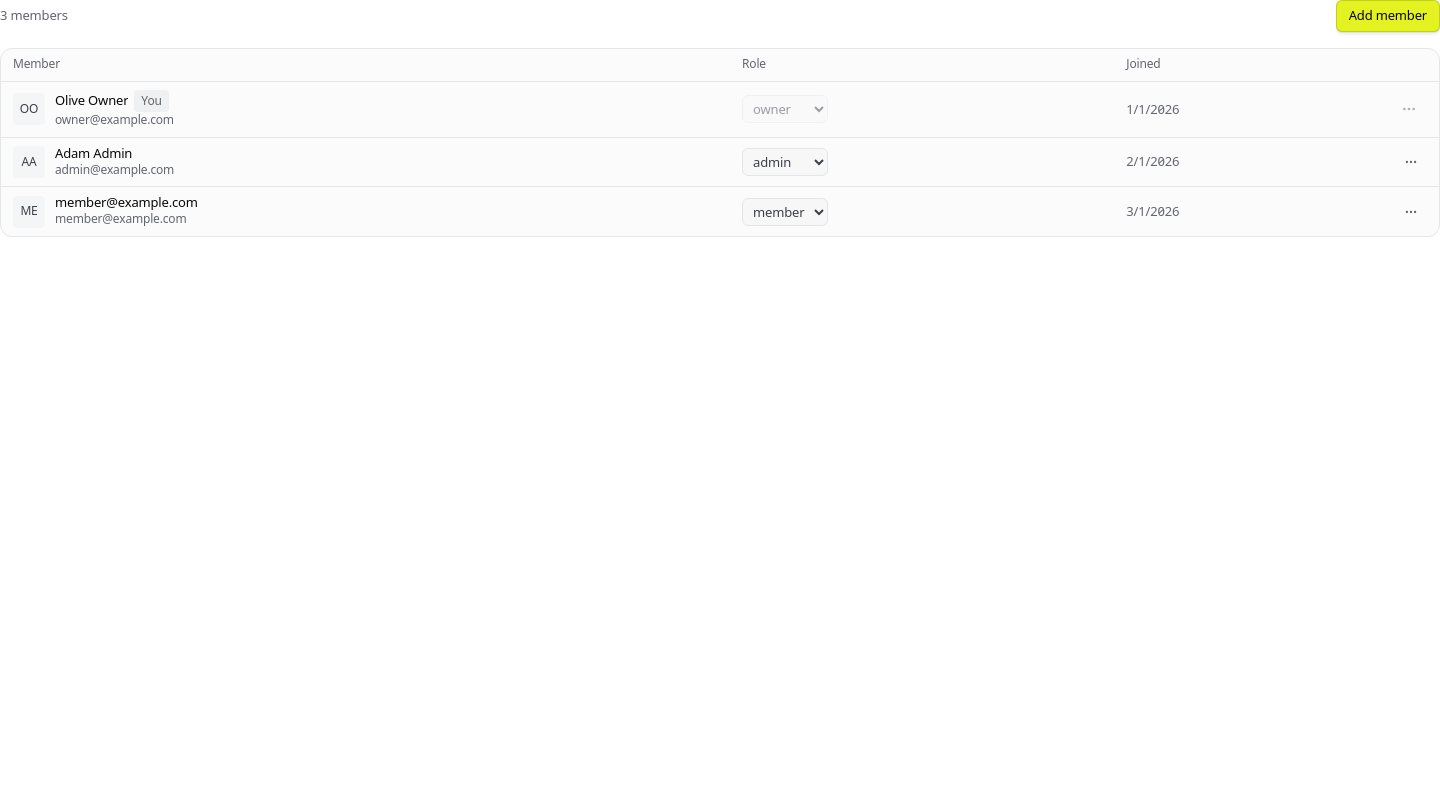
it: MembersPanel › reports a duplicate member as a conflict, not a failure
Expected: the text "owner@example.com" is shown, [55,112,174,129]
Click the button "Add member": (1388, 16) [1336,0,1439,32]
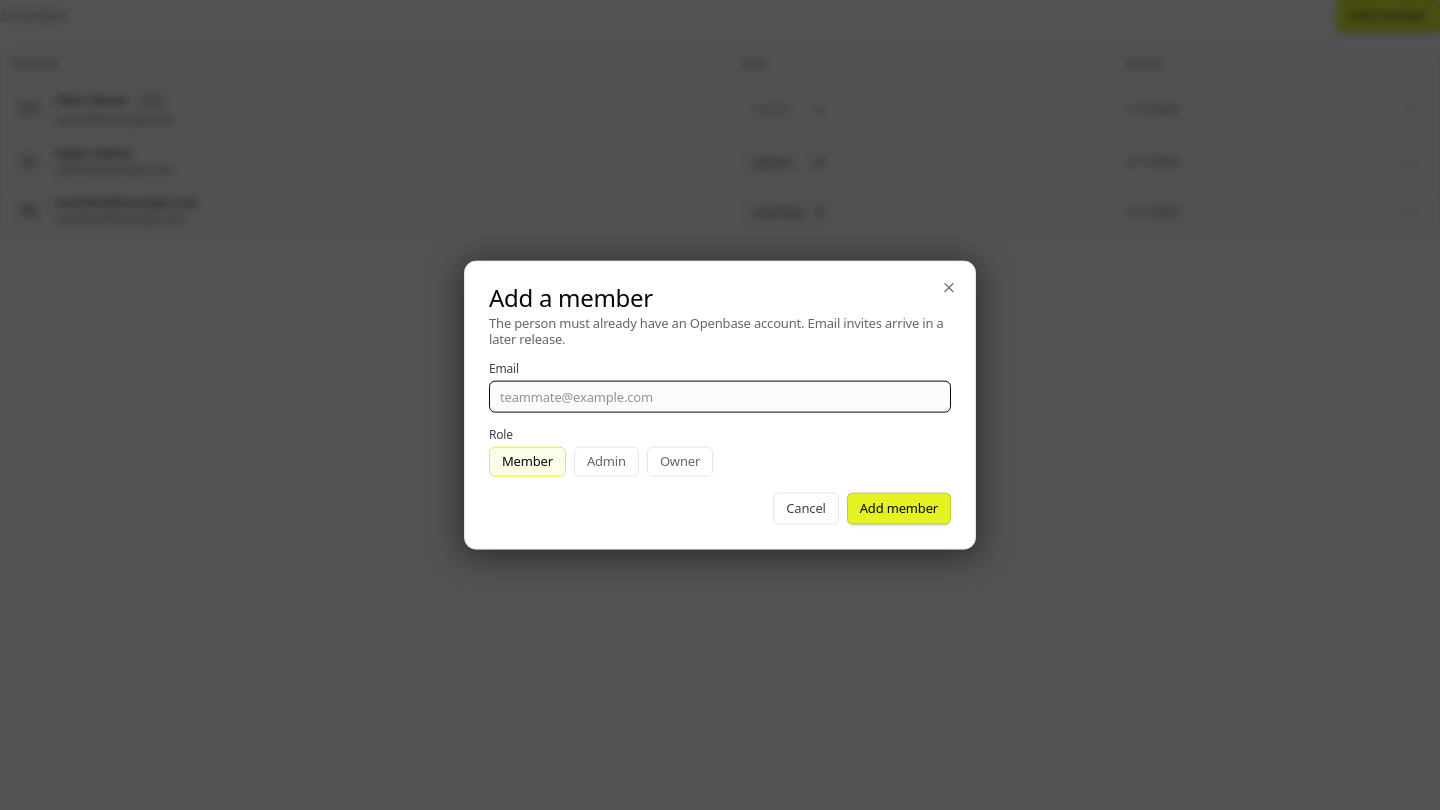
In the field labelled "Email": (720, 397) [489,381,951,413], type "admin@example.com"
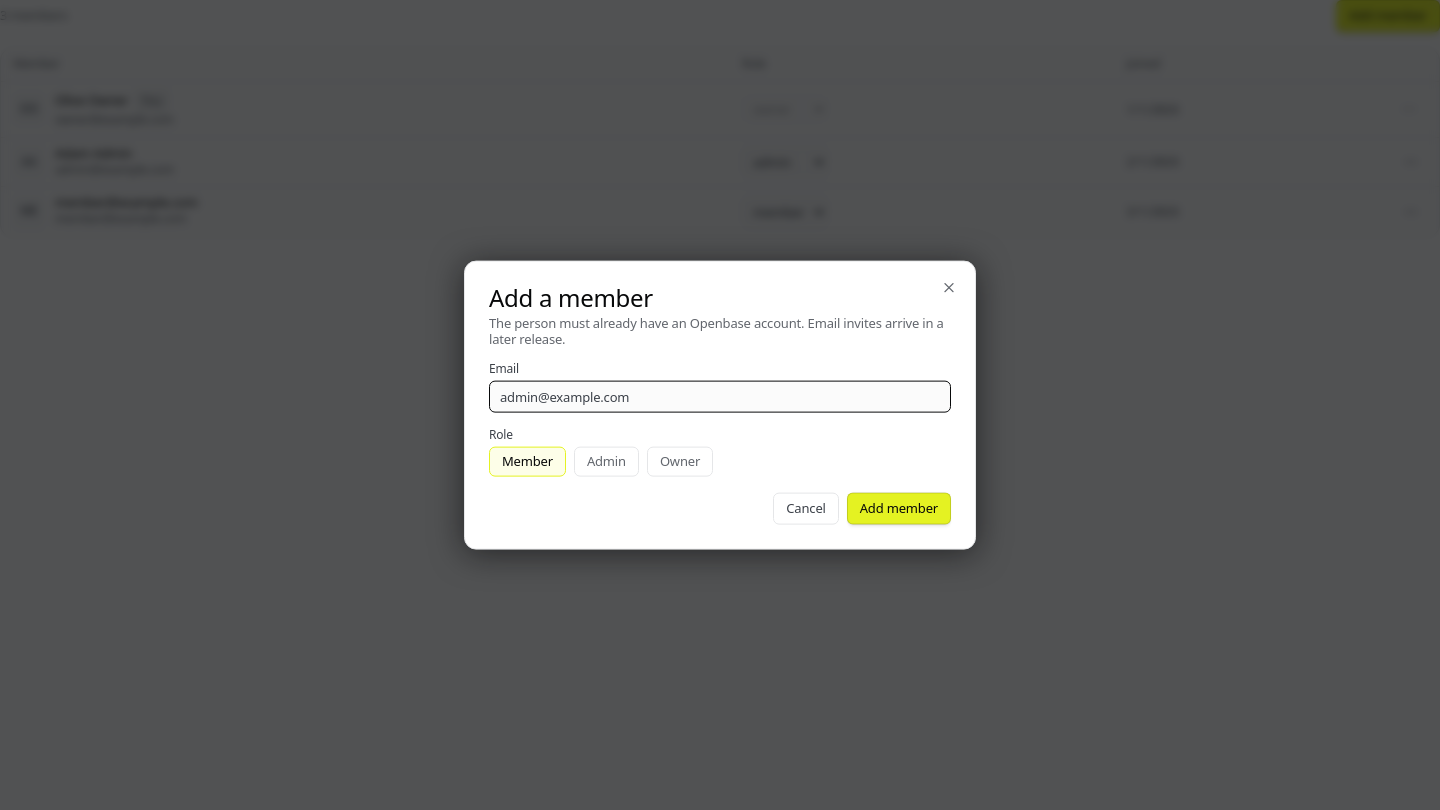
Click the button "Add member": (899, 508) [847,492,951,524]
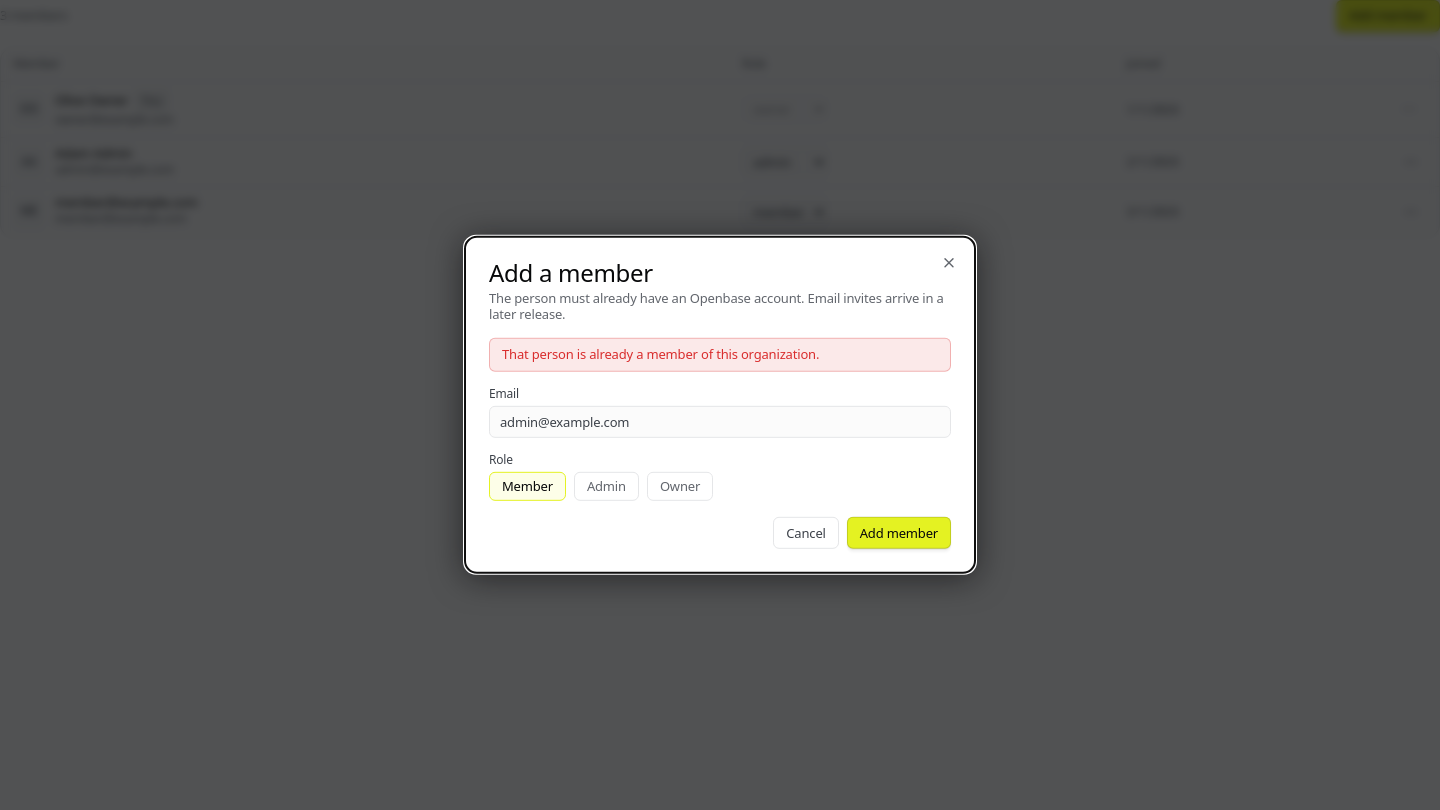
Result: the message shows "already a member of this organization" at [502,345,819,363]
